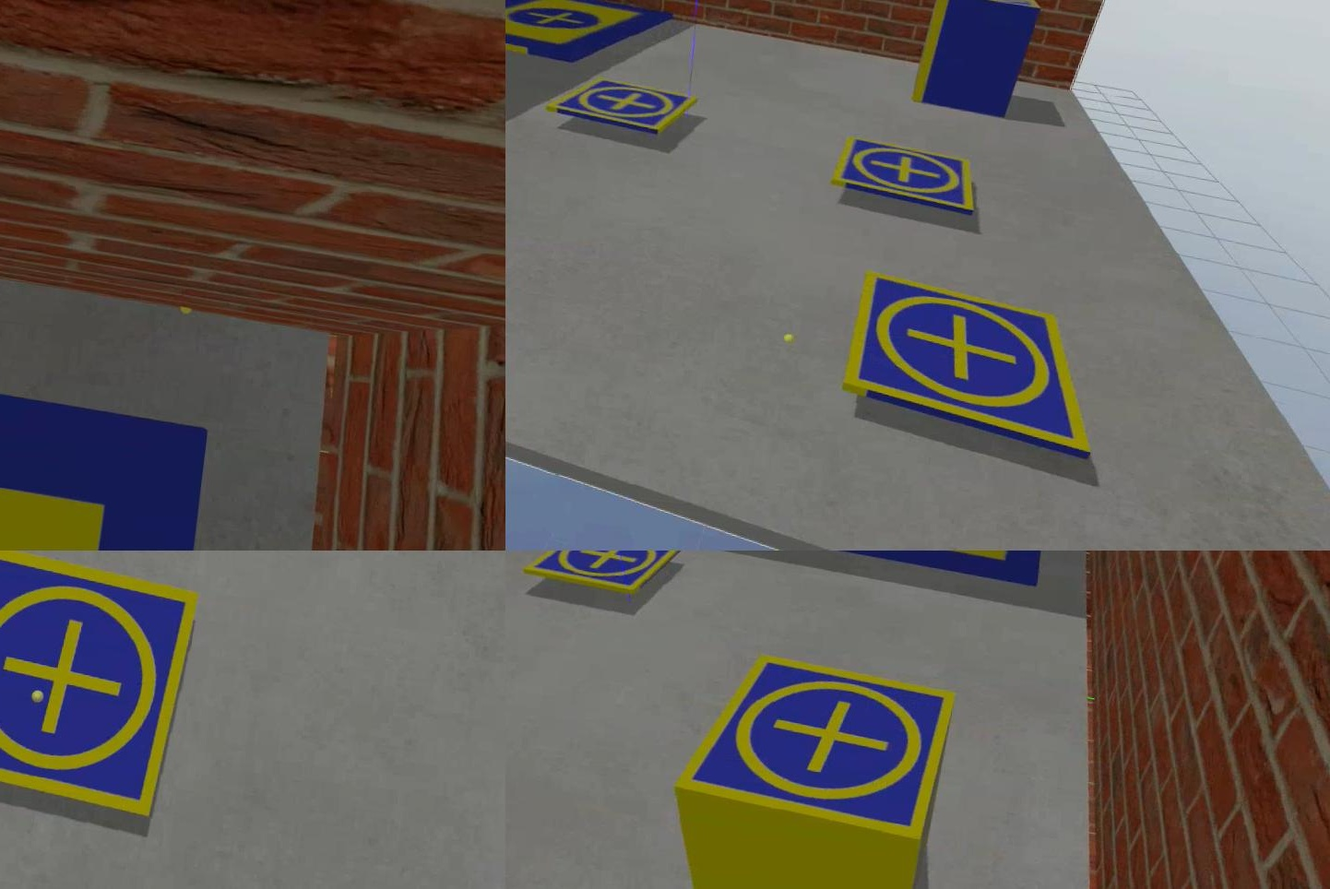large_base: (505, 1, 671, 74), (742, 551, 1047, 590)
small_base: (670, 646, 956, 846), (0, 551, 201, 827), (836, 269, 1111, 461), (826, 135, 980, 215), (545, 75, 693, 144), (520, 551, 686, 601), (931, 1, 1044, 15)
